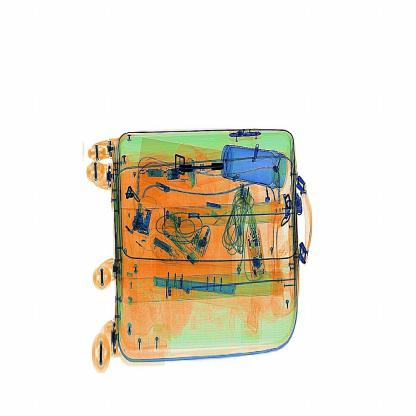knife: (176, 160, 228, 174)
